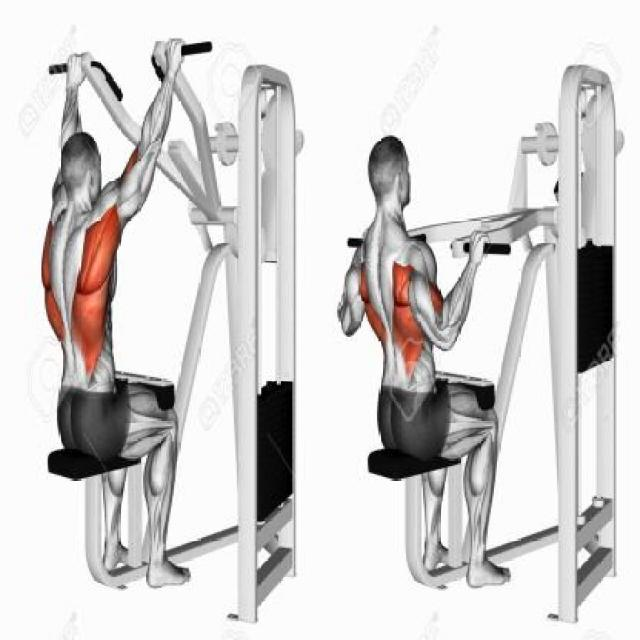Lat Pull Down: (26, 16, 311, 630), (340, 54, 632, 626)
